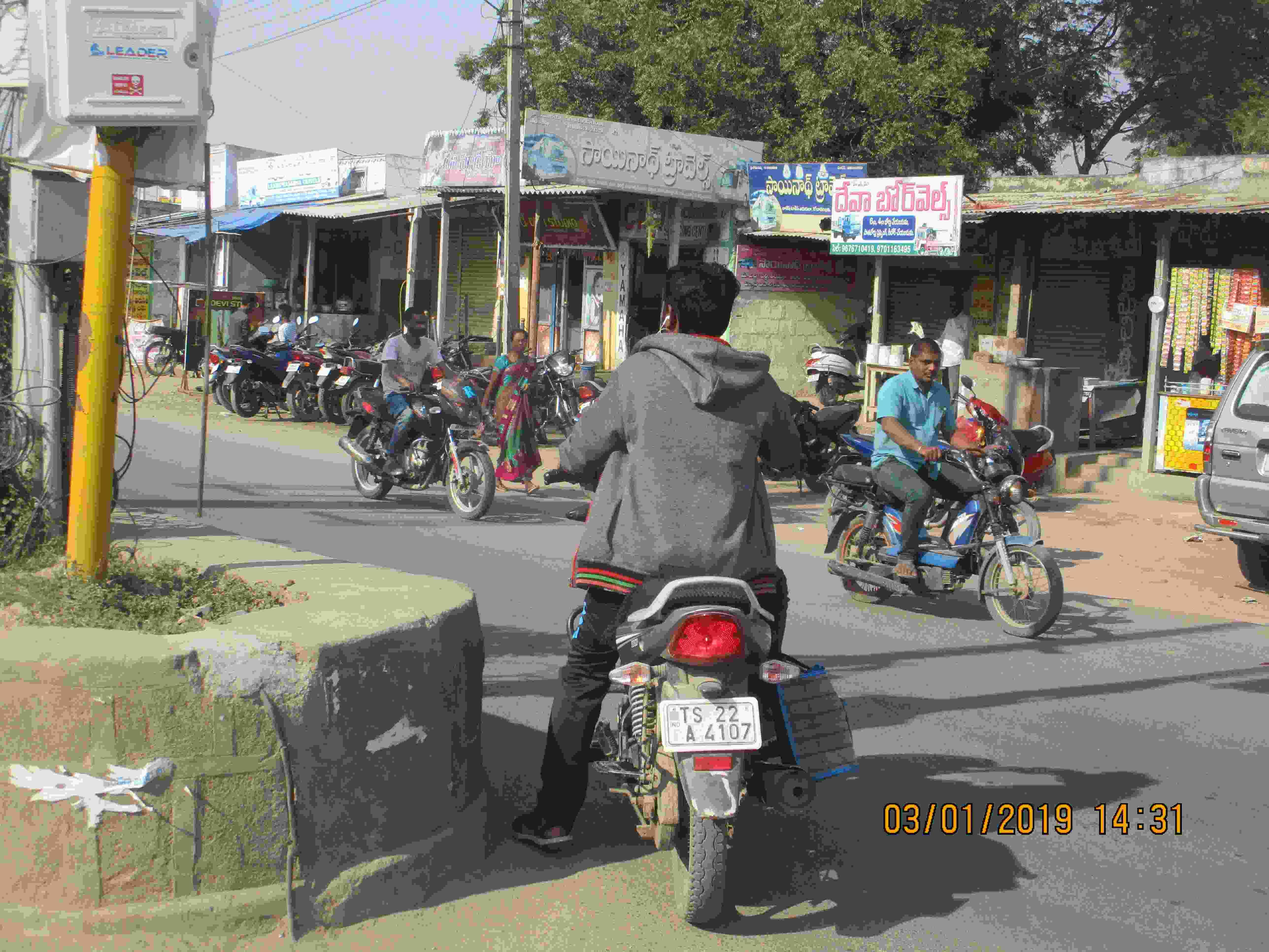plate: (653, 693, 772, 753)
